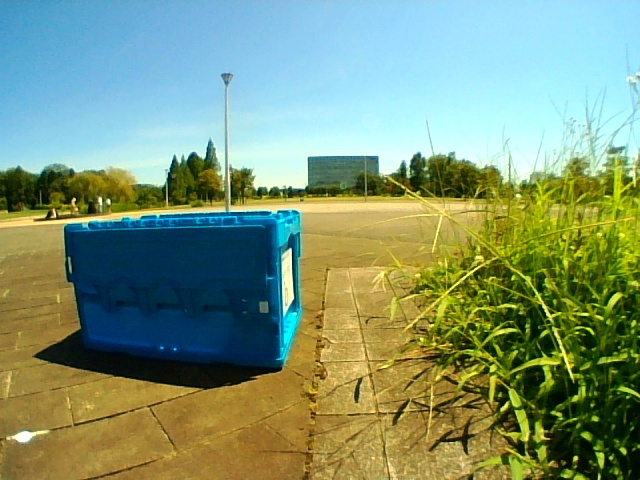blue_box: (83, 222, 297, 341)
tag_b: (282, 253, 294, 306)
